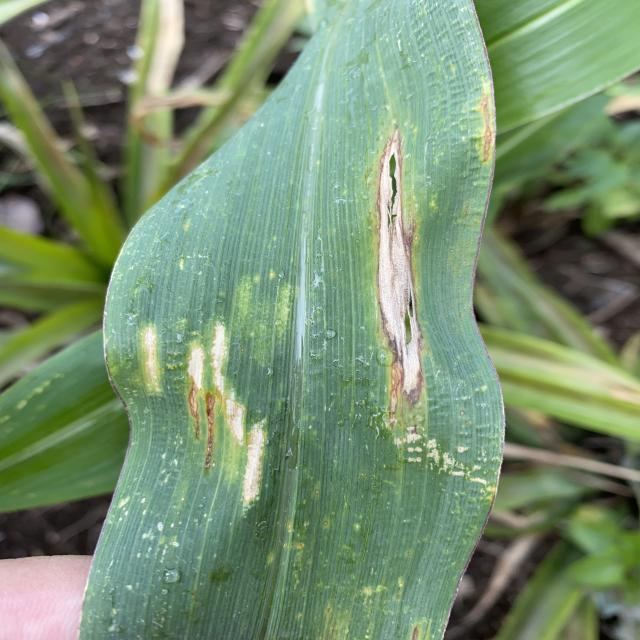Corn_Leaf_Blight: (98, 12, 502, 640)
